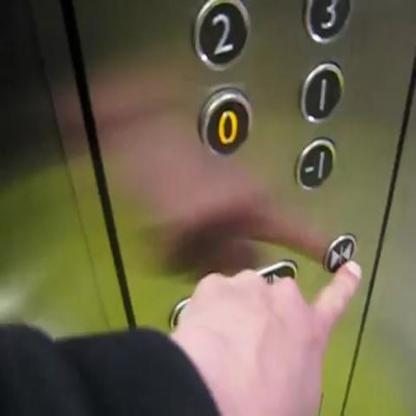-1: (292, 136, 338, 192)
0: (195, 84, 252, 157)
1: (298, 60, 346, 124)
2: (192, 0, 252, 71)
close: (320, 233, 359, 279)
